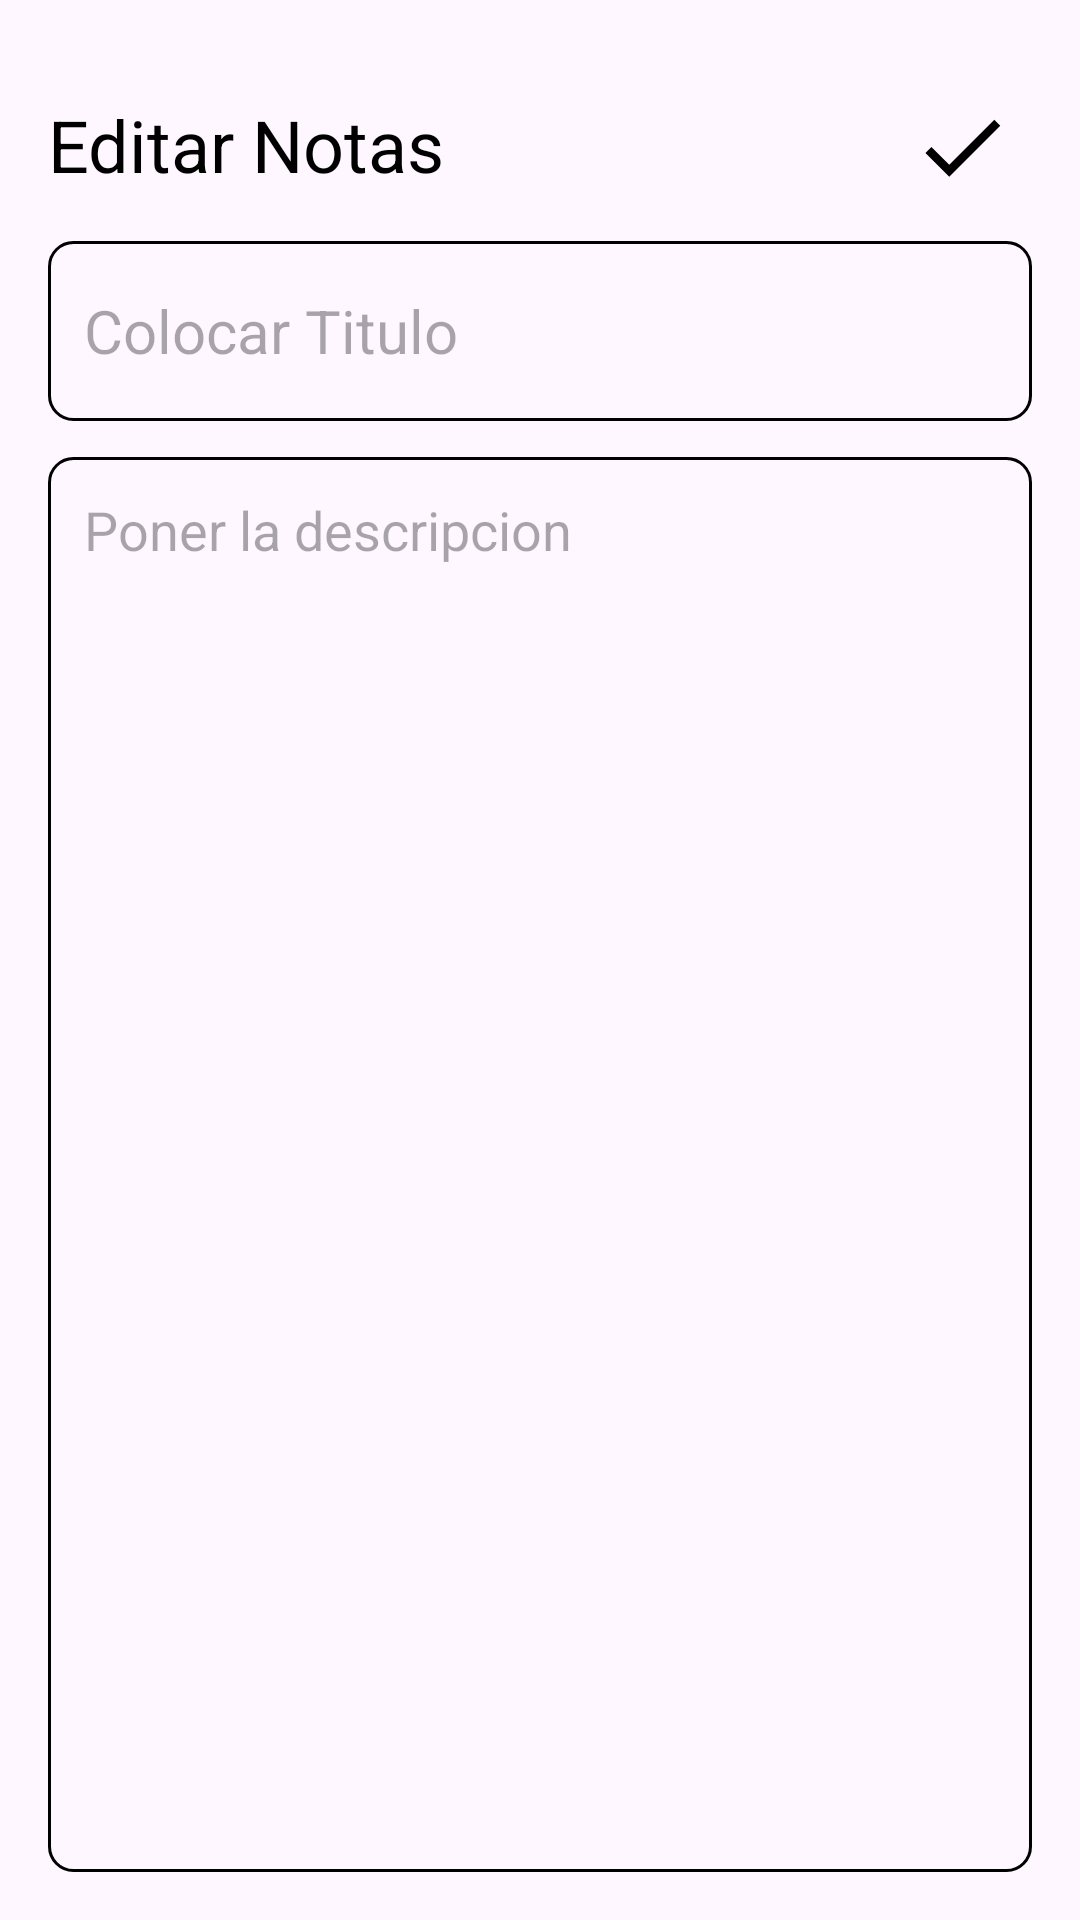

Icons on this 1080*1920 Android screen, each with the point to tap as (x=x, y=y):
done: (x=962, y=148)
